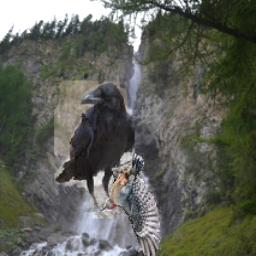Crow: (55, 82, 136, 220)
Woodpecker: (101, 153, 161, 256)
